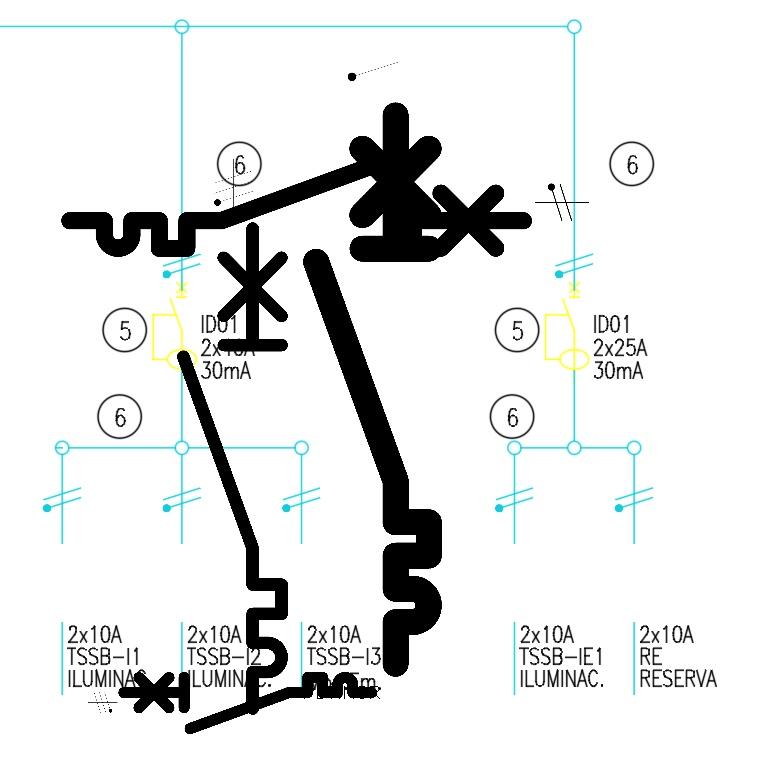interruptor_termomagnetico: (302, 101, 443, 678), (171, 216, 294, 721), (58, 143, 535, 260), (117, 671, 378, 735)
